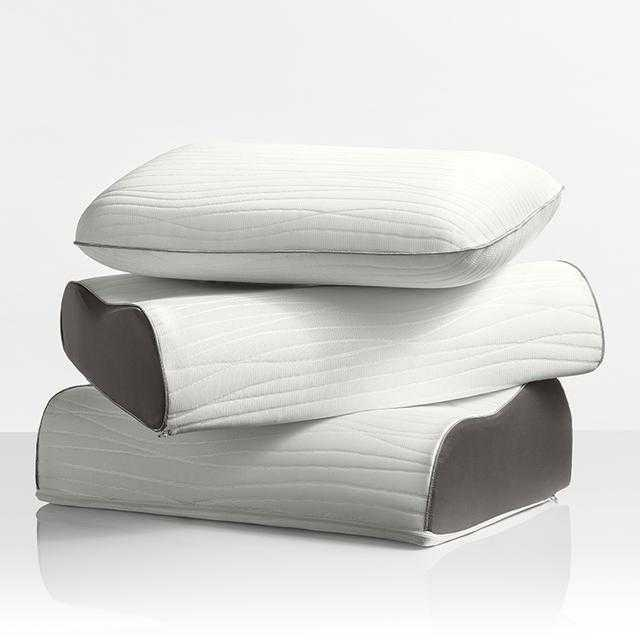pillow: (59, 258, 605, 438), (34, 377, 574, 548), (72, 140, 564, 288)
